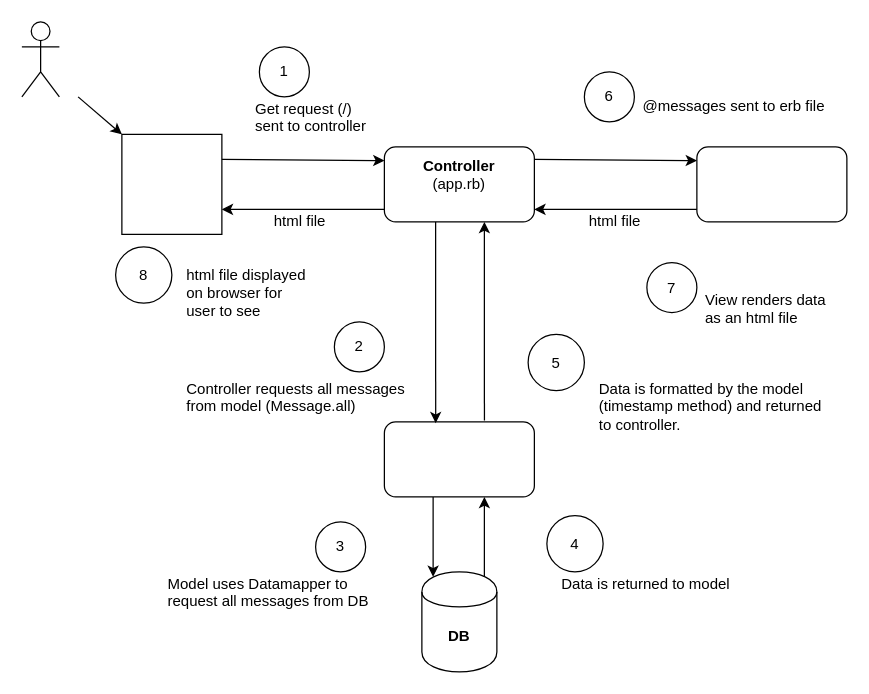
This 869x694 diagram has some shape labels left out. The shapes that lost their labels are listed below. From the top down, each one's centre as x and y in pixels, then its label:
point 40,59: User
point 171,183: Browser (Root page)
point 771,184: View (index.erb)
point 458,459: Model (message.rb)
